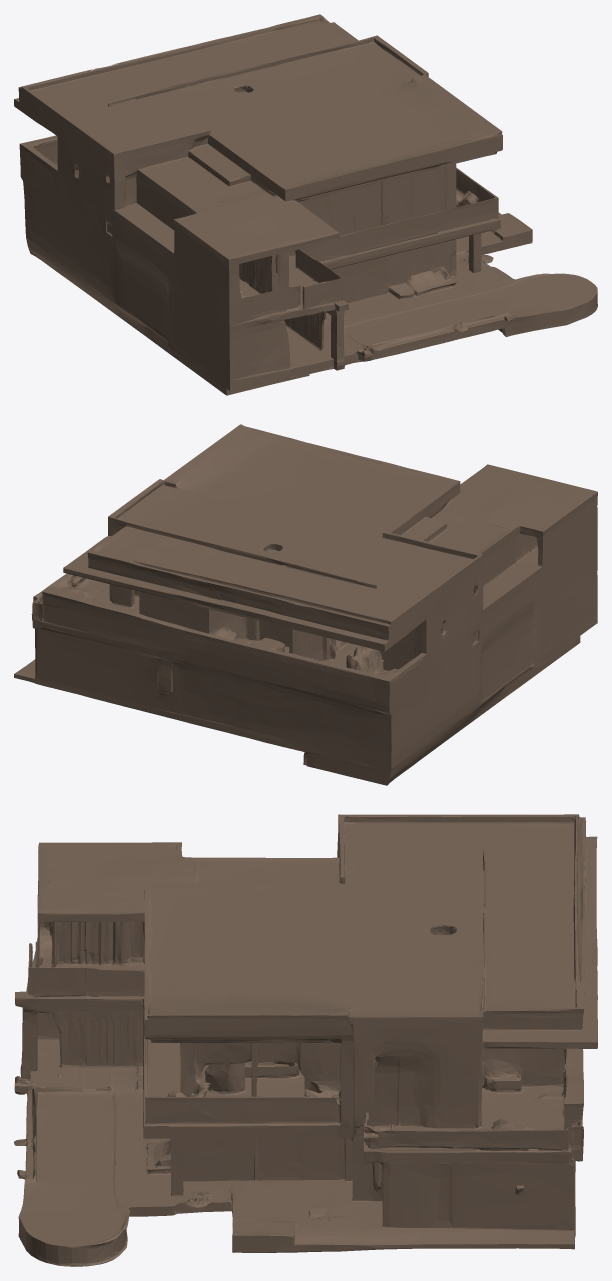
Rendered from villa_pbr.glb.
3 renders of one model, top to bottom at view 1: azimuth 30°, elevation 25°; view 2: azimuth 150°, elevation 25°; view 3: azimuth 270°, elevation 25°, orthographic. The views are drawn at different scales.
Parts seen in each view (by area): view 1: world; view 2: world; view 3: world.
Part boxes in pixels (<box>): world: <box>14,14,597,395</box>; world: <box>14,424,597,785</box>; world: <box>14,814,597,1266</box>.
Bounding box in the file's own units: 0.9779 × 0.4128 × 0.9997.
Materials: 1 (1 with a texture image).
